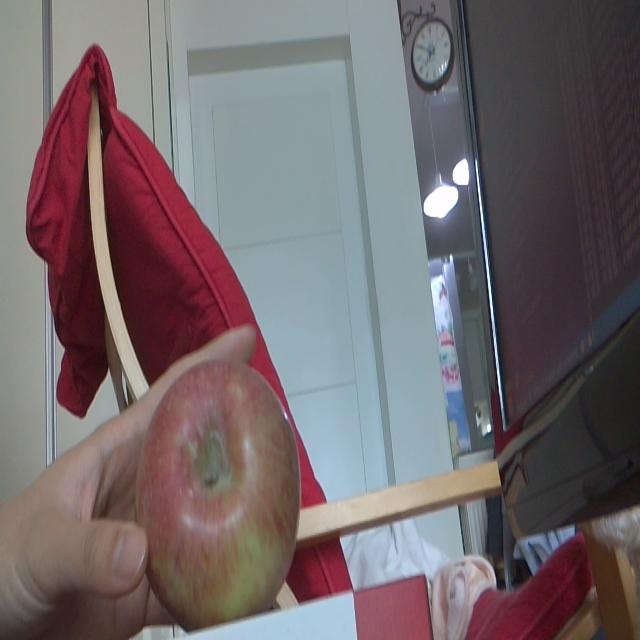apple: (133, 352, 304, 639)
